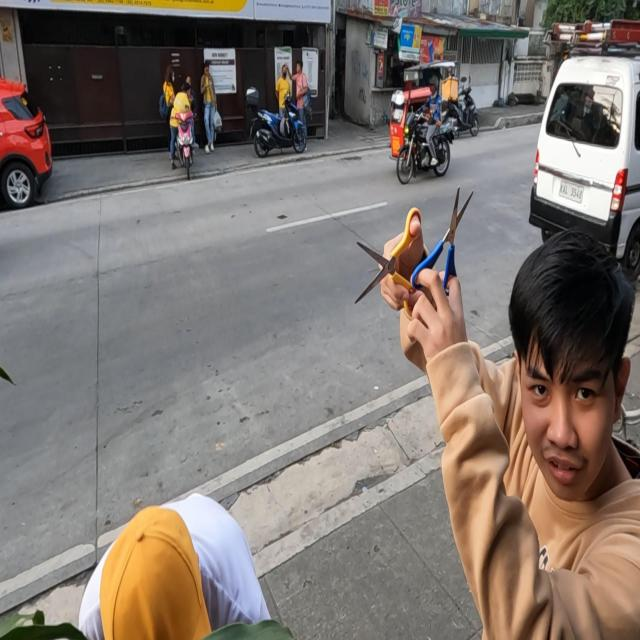scissor: (354, 206, 424, 324), (412, 184, 474, 301)
